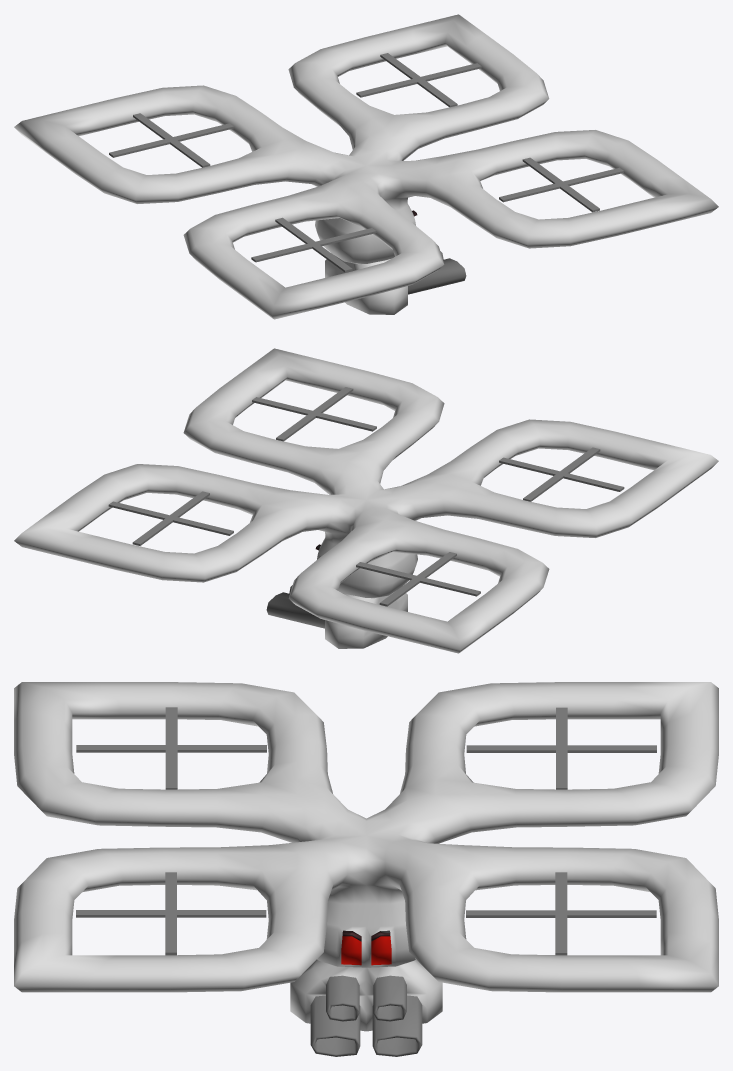
Rendered from Drone.fbx.
3 views of the same model, one above another, from view 1: azimuth 30°, elevation 25°; view 2: azimuth 150°, elevation 25°; view 3: azimuth 270°, elevation 25° (orthographic). The views are drawn at different scales.
Visible parts, largest first — view 1: Cube, Cube.001, Cube.005, Cube.002, Cube.003, Cube.004; view 2: Cube, Cube.001, Cube.003, Cube.004, Cube.002, Cube.005; view 3: Cube, Cube.001, Cube.003, Cube.005, Cube.002, Cube.004.
Boxes of the visible parts, x1=… form: Cube: x1=14, y1=14, x2=718, y2=319; Cube.001: x1=325, y1=251, x2=466, y2=314; Cube.005: x1=251, y1=217, x2=376, y2=272; Cube.002: x1=499, y1=157, x2=623, y2=212; Cube.003: x1=356, y1=53, x2=481, y2=107; Cube.004: x1=109, y1=113, x2=233, y2=167; Cube: x1=14, y1=348, x2=718, y2=653; Cube.001: x1=266, y1=585, x2=407, y2=648; Cube.003: x1=108, y1=491, x2=233, y2=545; Cube.004: x1=356, y1=552, x2=480, y2=606; Cube.002: x1=252, y1=387, x2=376, y2=441; Cube.005: x1=499, y1=447, x2=624, y2=501; Cube: x1=14, y1=682, x2=718, y2=992; Cube.001: x1=290, y1=959, x2=442, y2=1056; Cube.003: x1=466, y1=872, x2=656, y2=955; Cube.005: x1=76, y1=707, x2=266, y2=789; Cube.002: x1=76, y1=872, x2=266, y2=955; Cube.004: x1=466, y1=707, x2=656, y2=789.
Bounding box in the file's own units: 2214 × 680 × 2214.
